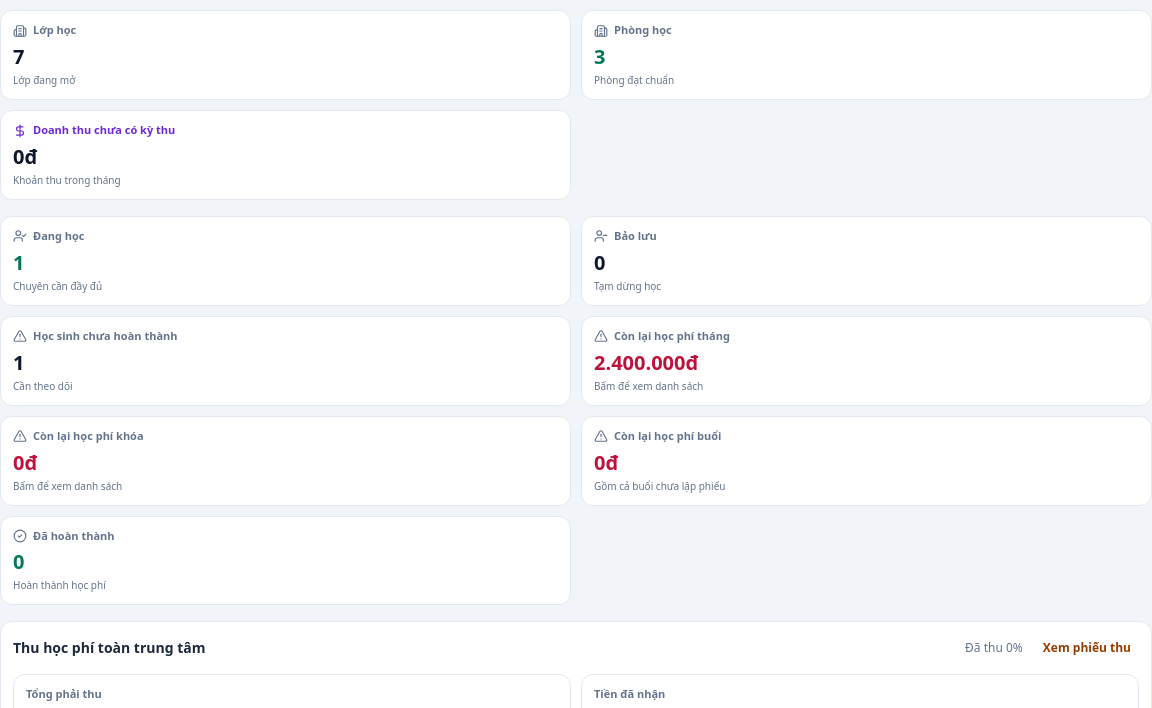
Test case: counts active unpaid students in debt metrics even when no receipts exist
This screenshot has width=1152, height=708.
(page scrolled)
Click the button "Học sinh chưa hoàn thành 1 Cần theo dõi" at (105,335), box [0,316,571,406]
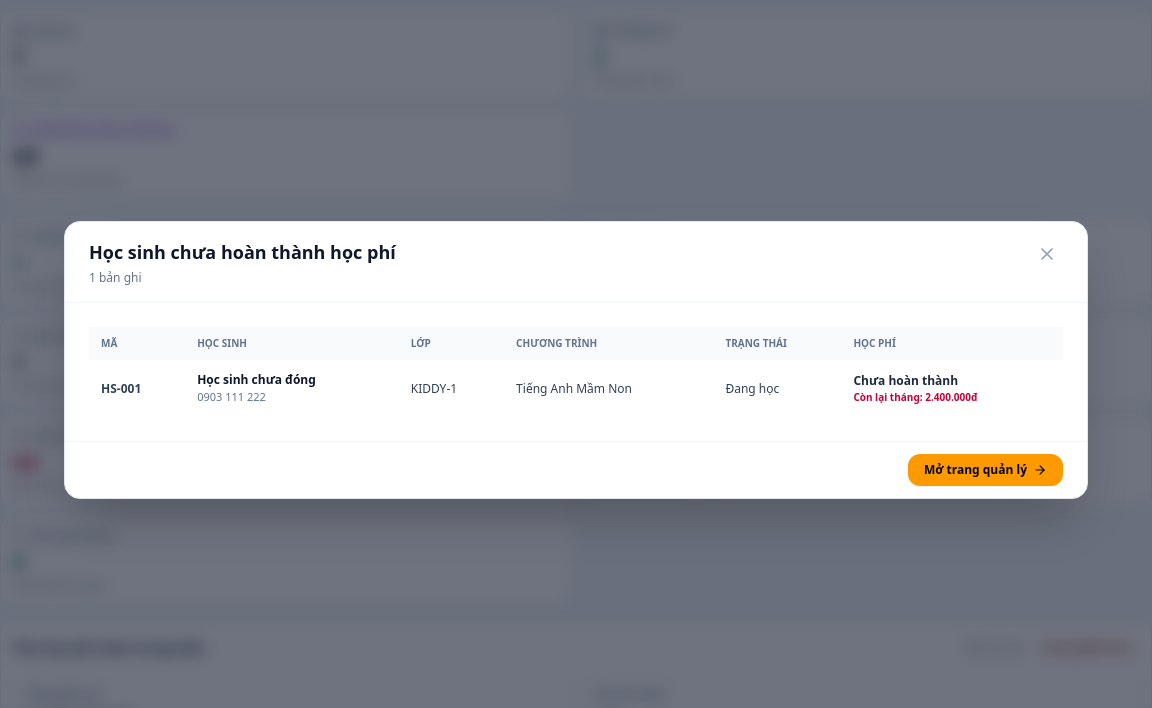
Check: the heading "Học sinh chưa hoàn thành học phí" is shown, box [89,238,396,266]
